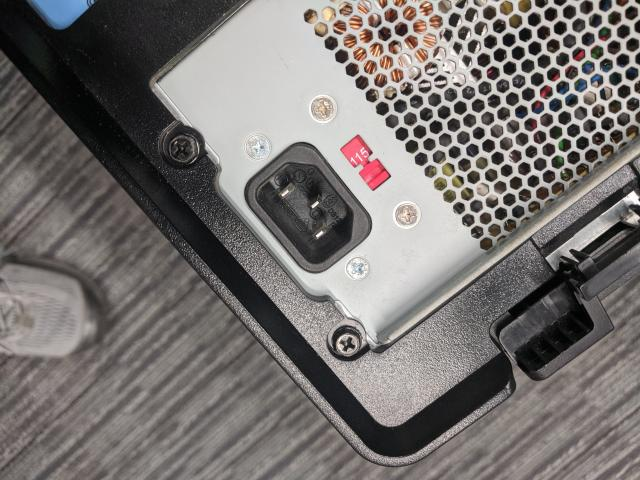CRS: (165, 132, 203, 166), (330, 328, 368, 359), (390, 202, 425, 230), (309, 94, 340, 125), (343, 255, 372, 282), (242, 134, 274, 157)
